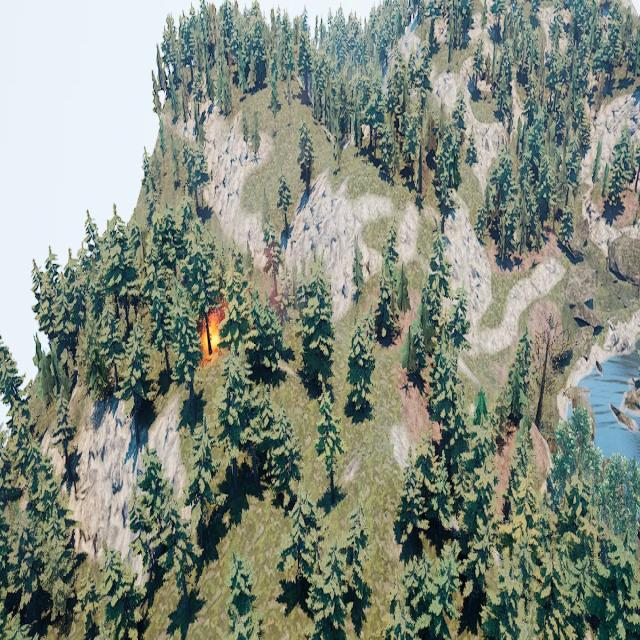fire: (202, 309, 224, 361)
